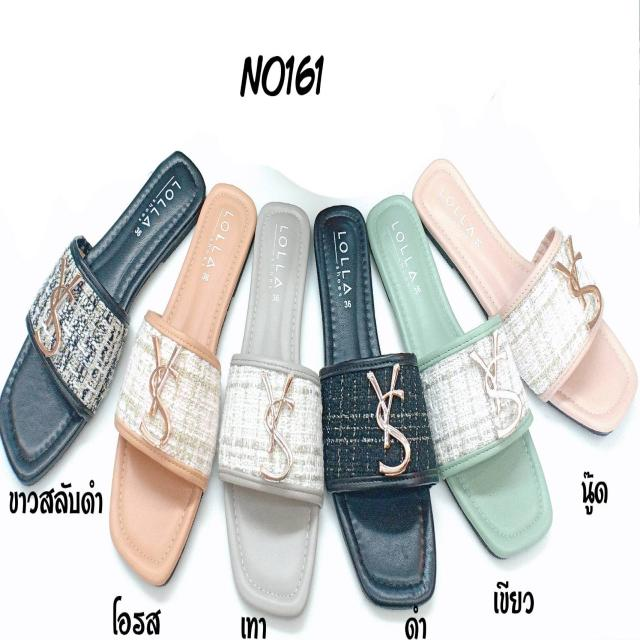black: (299, 186, 445, 637)
green: (355, 188, 551, 555)
grey: (225, 149, 325, 627)
nood: (424, 88, 631, 428)
orot: (100, 174, 260, 600)
white-black: (0, 72, 209, 493)
